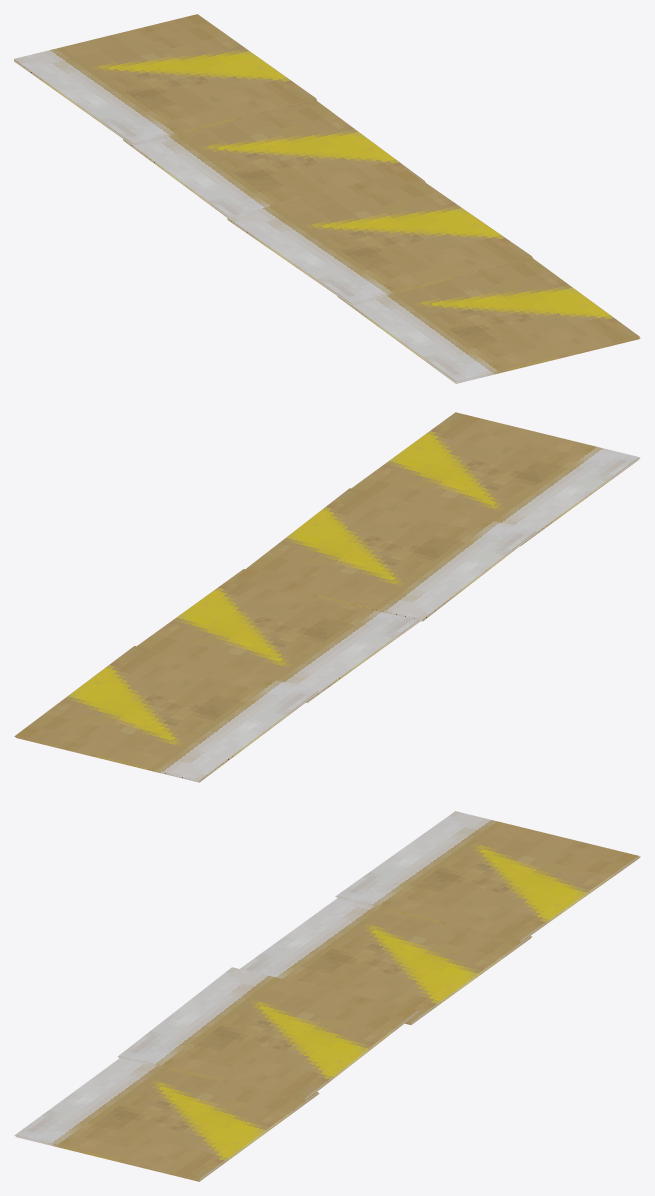
The model's file is objects_un_base_board02.gltf.
The picture shows the model from 3 angles, top to bottom: view 1: azimuth 30°, elevation 25°; view 2: azimuth 150°, elevation 25°; view 3: azimuth 330°, elevation 25°; orthographic projection.
Parts seen in each view (by area): view 1: um_objects_un_base_board02_model_lod0Shape:objects_un_base_b, um_objects_un_base_board02_model_lod1Shape:objects_un_base_b; view 2: um_objects_un_base_board02_model_lod0Shape:objects_un_base_b, um_objects_un_base_board02_model_lod1Shape:objects_un_base_b; view 3: um_objects_un_base_board02_model_lod0Shape:objects_un_base_b, um_objects_un_base_board02_model_lod1Shape:objects_un_base_b.
Part boxes in pixels (<box>): um_objects_un_base_board02_model_lod0Shape:objects_un_base_b: <box>14,14,639,383</box>; um_objects_un_base_board02_model_lod1Shape:objects_un_base_b: <box>14,58,640,382</box>; um_objects_un_base_board02_model_lod0Shape:objects_un_base_b: <box>15,412,639,782</box>; um_objects_un_base_board02_model_lod1Shape:objects_un_base_b: <box>14,457,640,782</box>; um_objects_un_base_board02_model_lod0Shape:objects_un_base_b: <box>15,811,639,1181</box>; um_objects_un_base_board02_model_lod1Shape:objects_un_base_b: <box>14,811,640,1181</box>.
Bounding box in the file's own units: 2.59 × 0.0682 × 10.39.
Materials: 1 (1 with a texture image).
